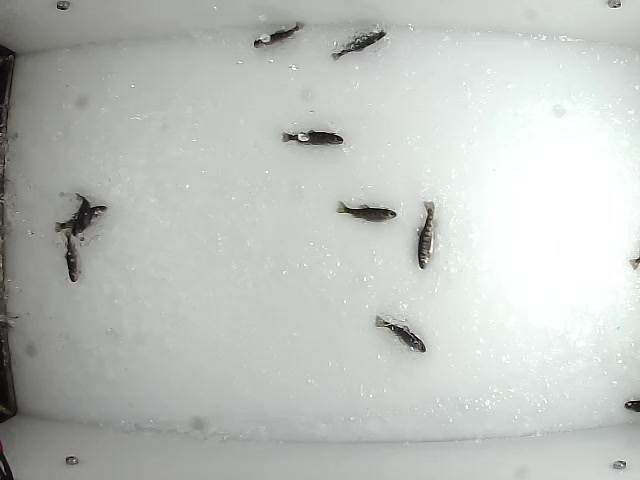fish: (373, 312, 428, 354), (329, 25, 387, 60), (414, 199, 439, 271), (251, 20, 306, 51), (53, 202, 108, 232), (334, 197, 399, 222), (69, 188, 92, 238), (60, 228, 80, 283), (280, 130, 345, 146)
